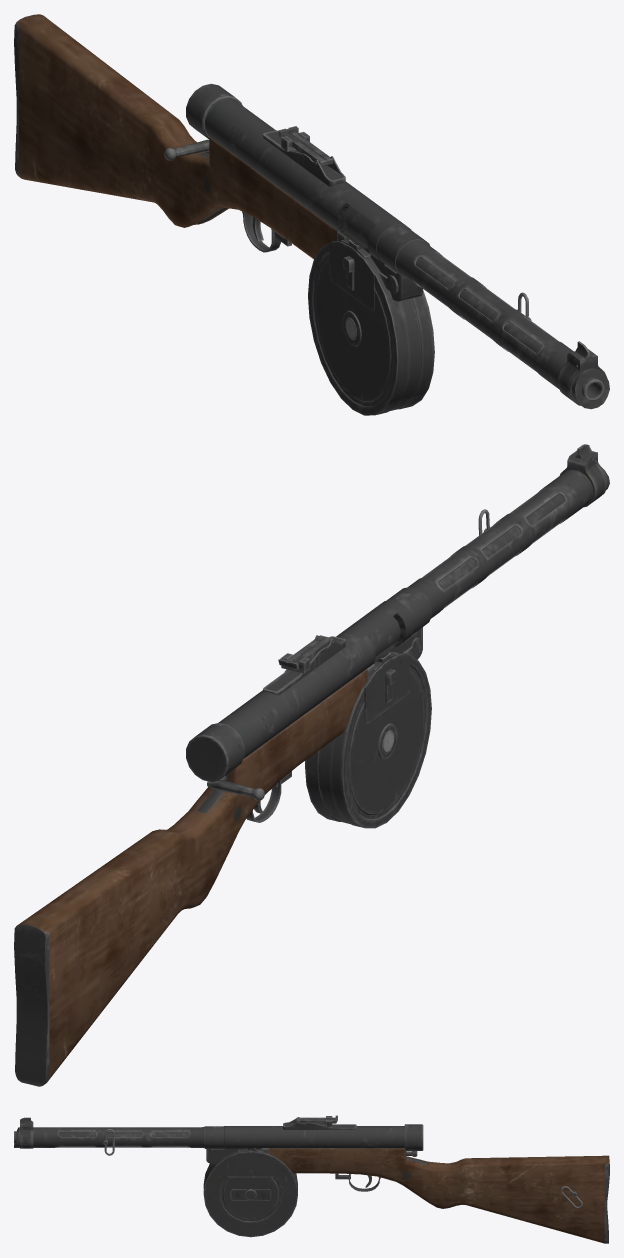
File: smg.glb
The picture shows the model from 3 angles, top to bottom: view 1: azimuth 30°, elevation 25°; view 2: azimuth 150°, elevation 25°; view 3: azimuth 270°, elevation 25°; orthographic projection. The views are drawn at different scales.
Visible parts, largest first — view 1: smg; view 2: smg; view 3: smg.
Boxes of the visible parts, bbox=[...] form: smg: bbox=[14, 14, 609, 415]; smg: bbox=[14, 444, 609, 1086]; smg: bbox=[14, 1115, 609, 1243].
Size of the model in its own units: 0.0312 by 0.0962 by 0.4199.
Materials: 1 (1 with a texture image).
